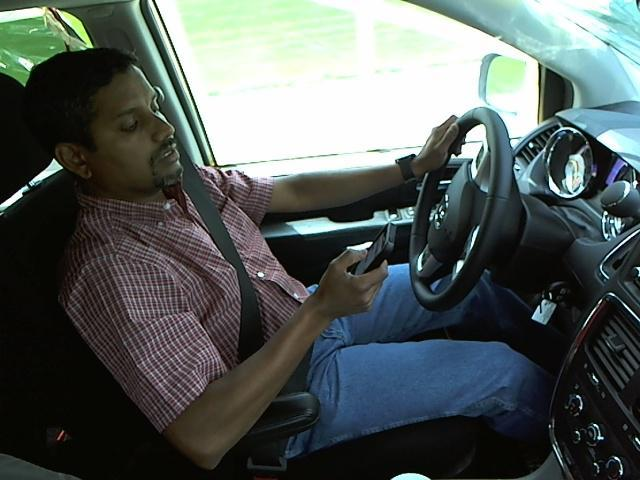PhoneUse: (337, 215, 409, 295)
